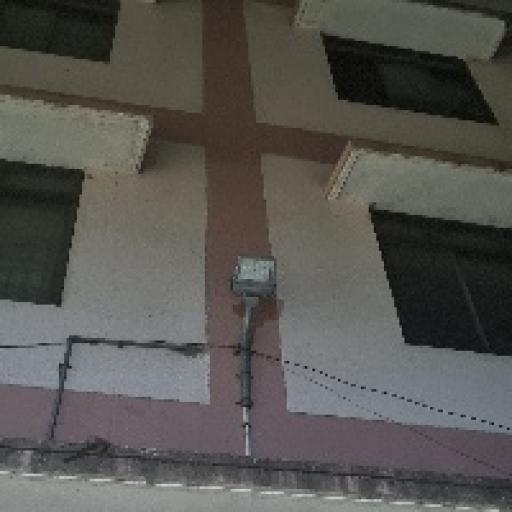Not Working: (216, 244, 294, 315)
